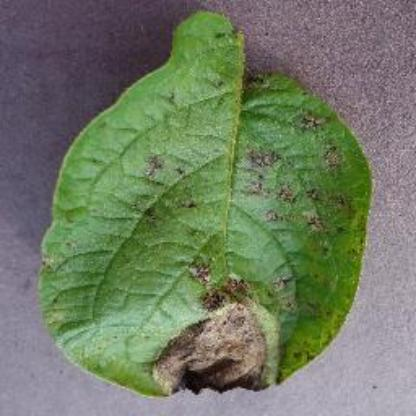Late-Blight: (27, 53, 395, 411)
